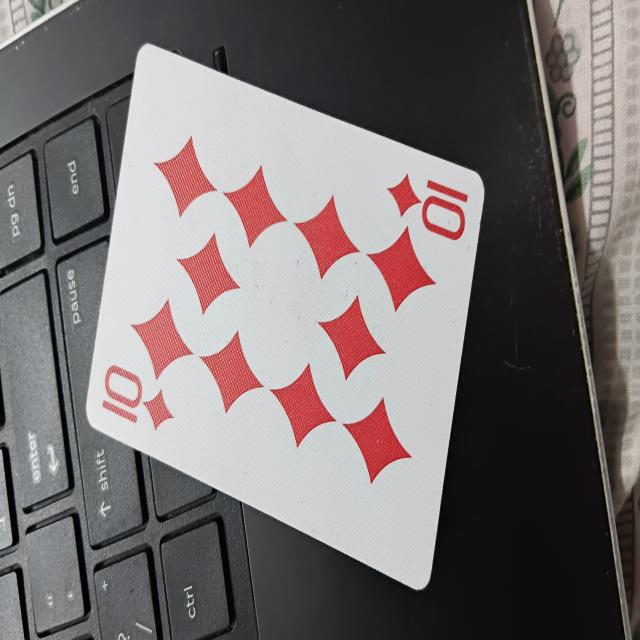10D: (82, 46, 485, 587)
